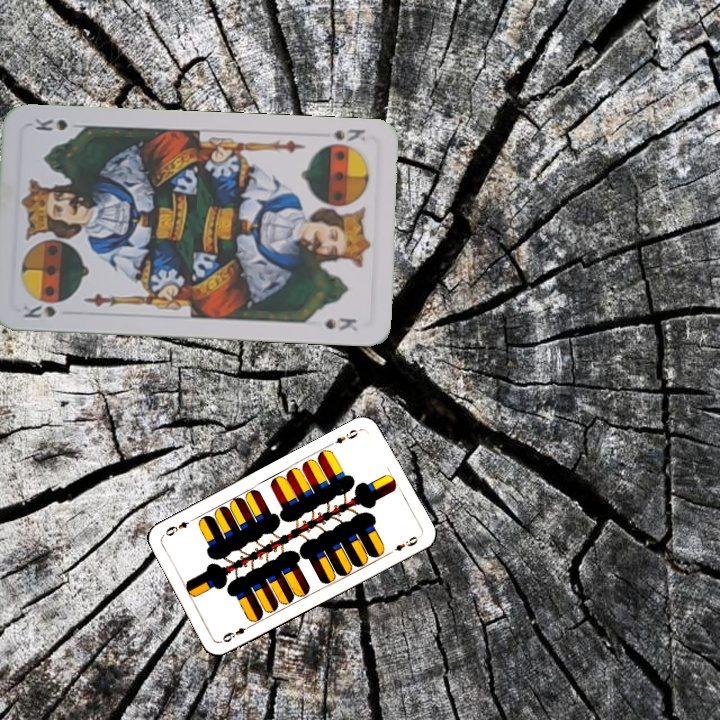E9: (217, 621, 255, 645), (326, 424, 364, 448)
SK: (19, 301, 59, 321), (330, 125, 368, 144)
